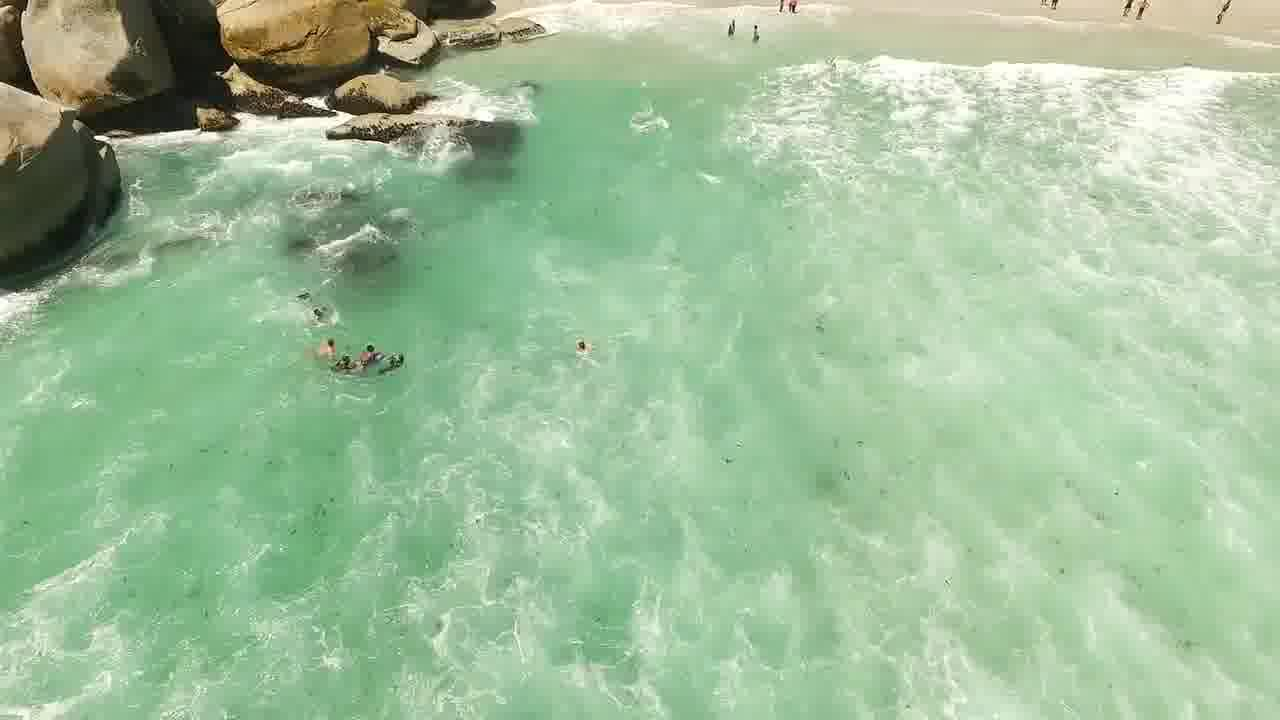human: (353, 332, 404, 371), (545, 332, 607, 353), (294, 299, 327, 328), (305, 328, 336, 358), (745, 14, 763, 50), (713, 9, 733, 31)
